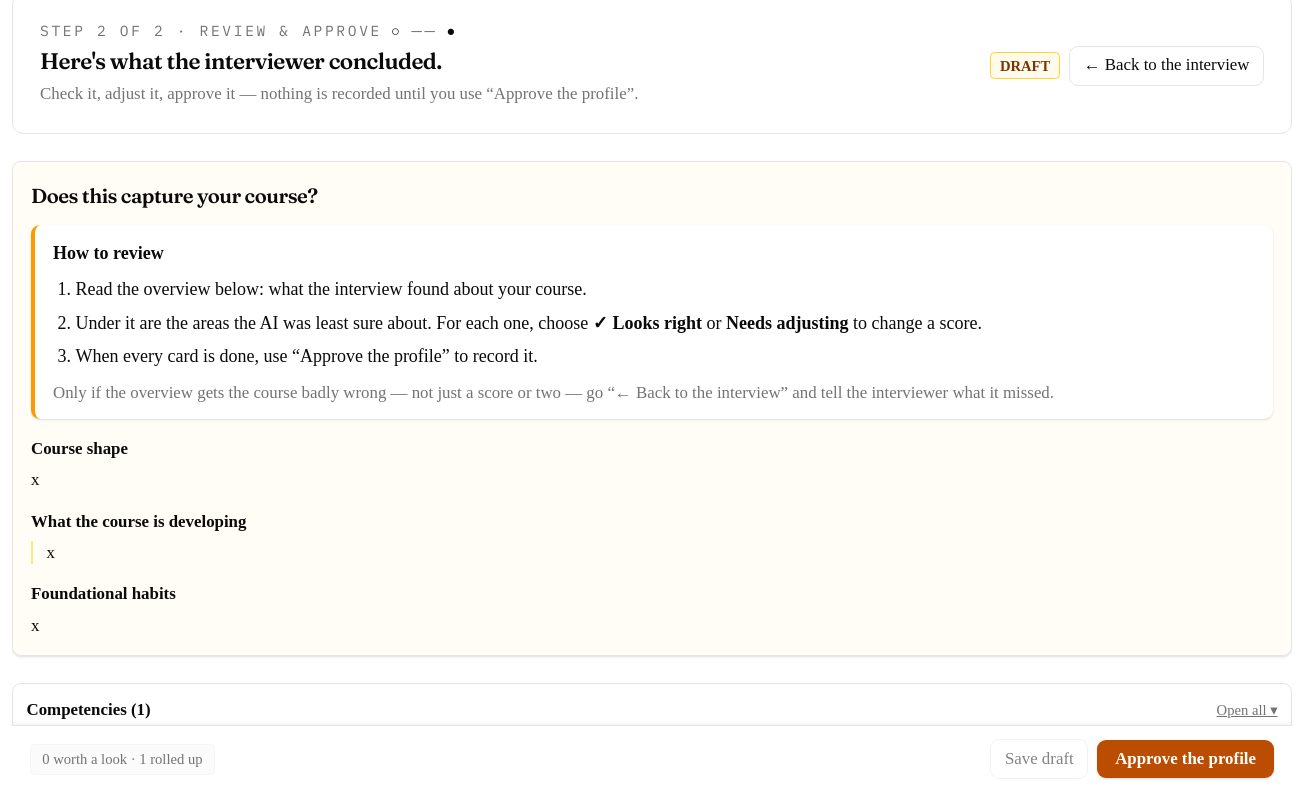
Test: approve dialog with thin evidence › without a warning the dialog approves as before
What coordinates should you click on to do the following:
click the button "Approve the profile"
I would click on:
 (1186, 759)
Its box is [1097,740,1274,779].
(page scrolled)
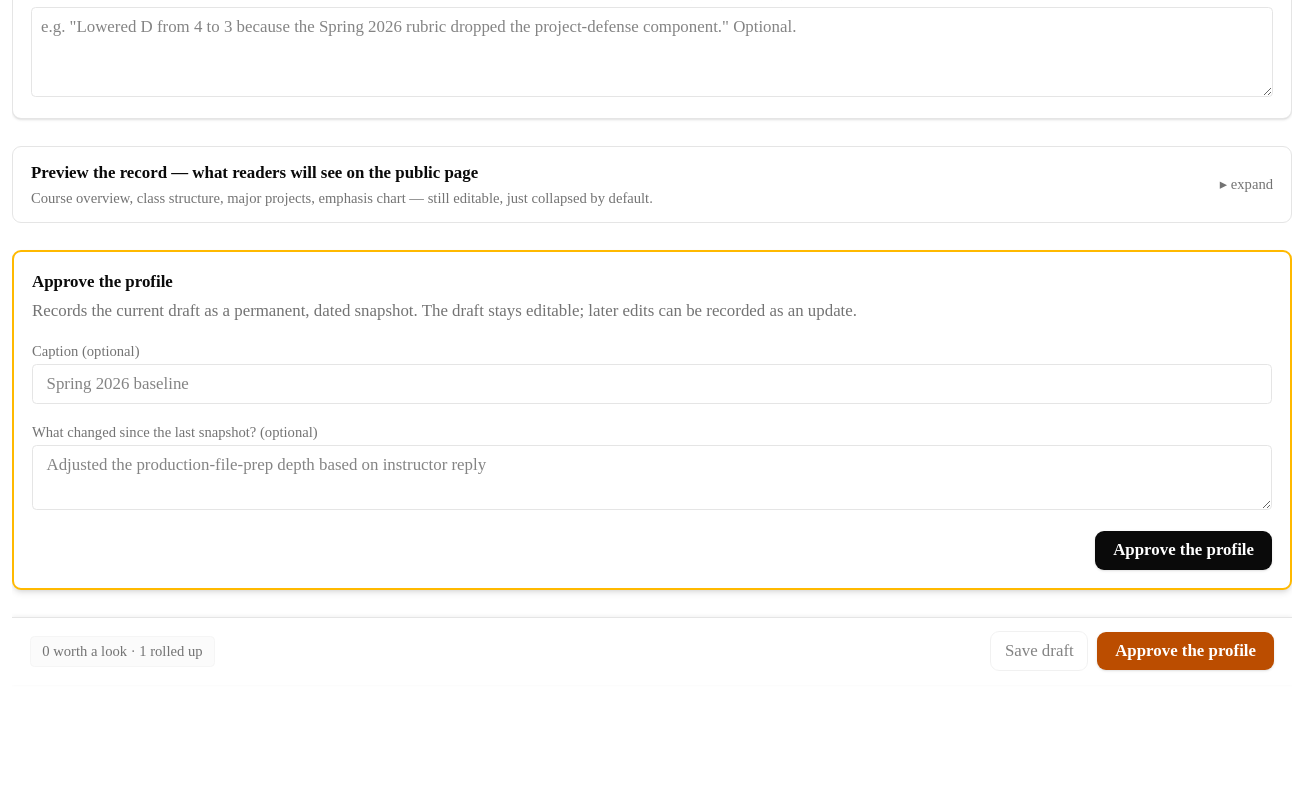
Check: the 1st button "Approve the profile" is enabled, box [1095,531,1272,570]
